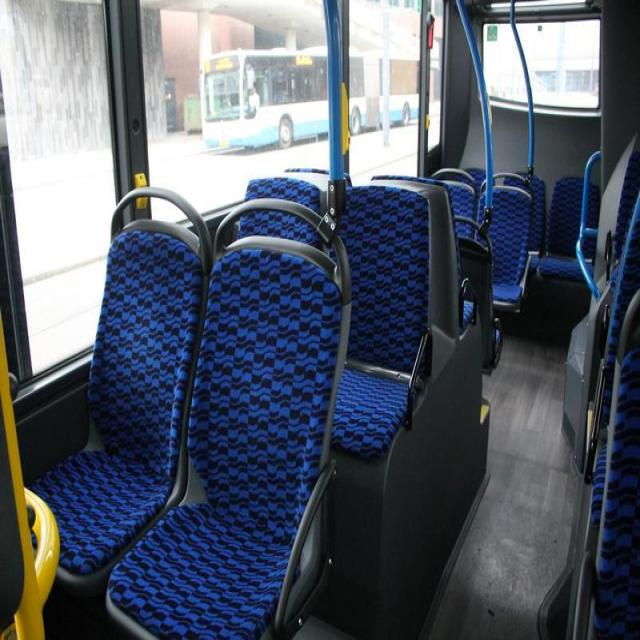empty-seat-frontal: (101, 195, 352, 639), (27, 178, 214, 584), (328, 166, 429, 454), (476, 172, 538, 309), (542, 176, 602, 298)
